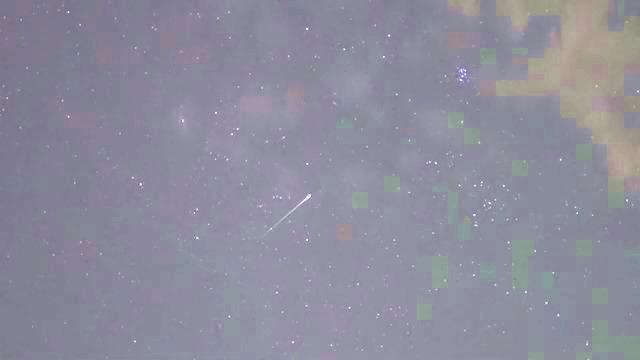meteorite: (253, 188, 328, 236)
